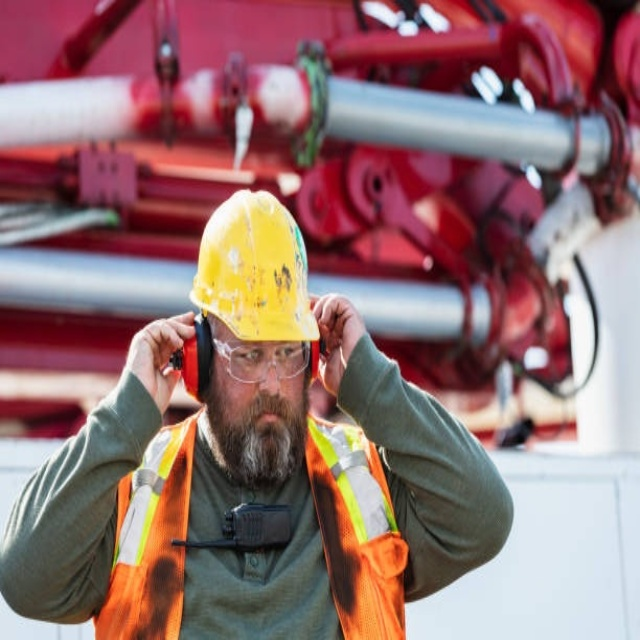Gafas: (211, 329, 307, 383)
Sin_guantes: (123, 301, 199, 414), (310, 291, 366, 401)
Sin_mascara: (243, 392, 289, 439)
